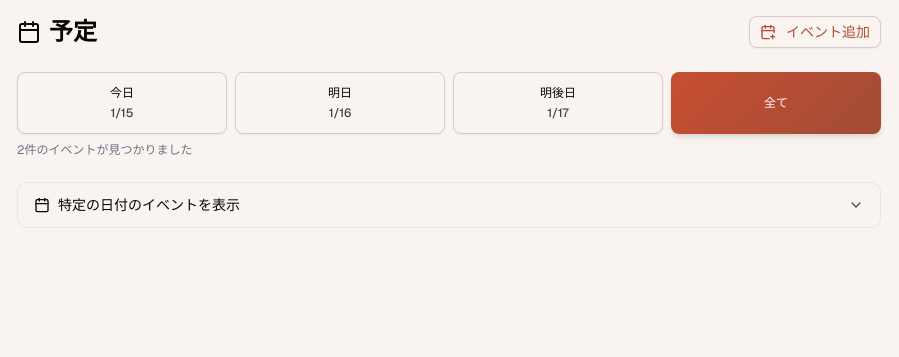
SchedulePresentation › should not search with empty date
# First open the accordion
Step 1. Click the button "特定の日付のイベントを表示" → (149, 205), box 18,183 -> 880,227
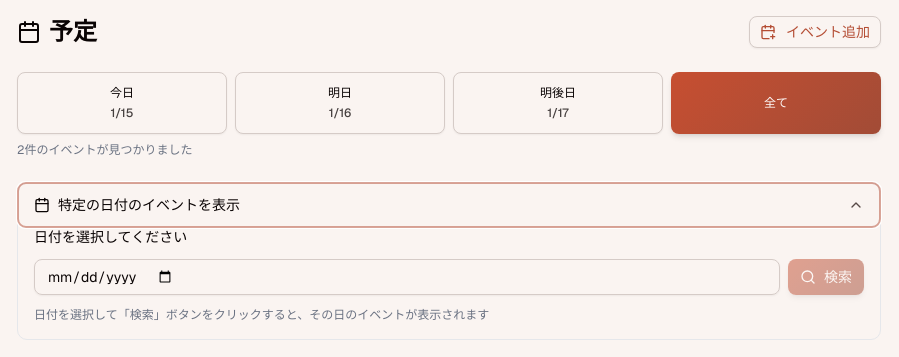
Result: the button "検索" is disabled at 788,259 -> 864,295
